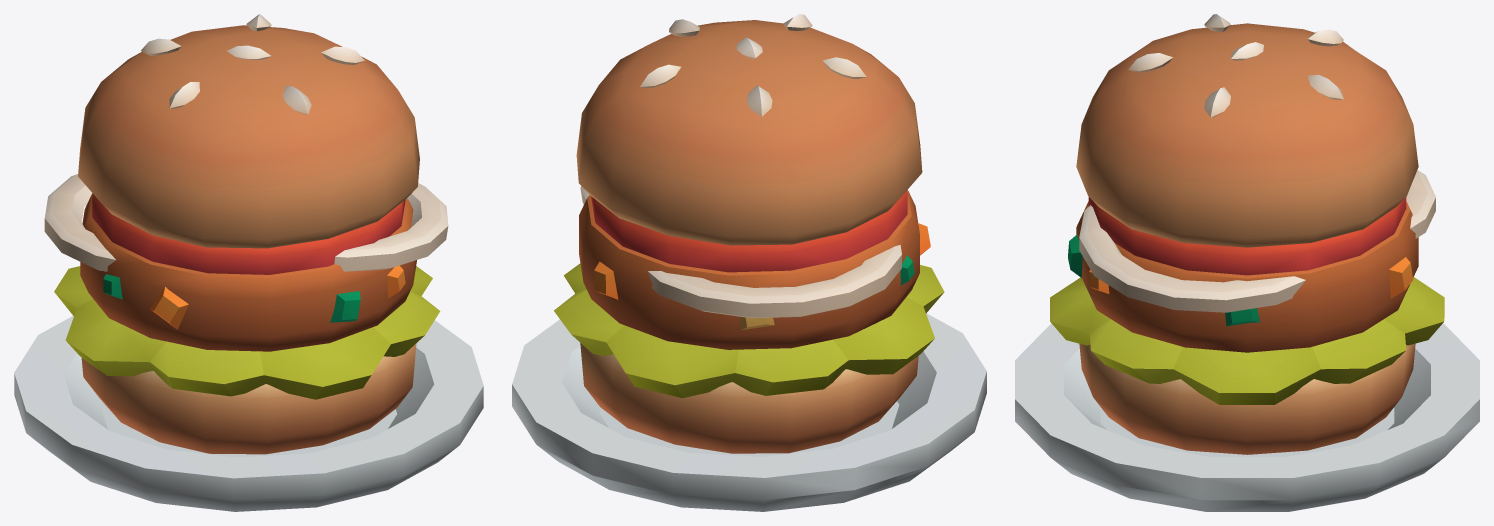
Rendered from kaykit-restaurant-bits-food-vegetableburger.glb.
The picture shows the model from 3 angles, left to right: view 1: azimuth 30°, elevation 25°; view 2: azimuth 150°, elevation 25°; view 3: azimuth 270°, elevation 25°; orthographic projection.
Parts seen in each view (by area): view 1: food_vegetableburger; view 2: food_vegetableburger; view 3: food_vegetableburger.
Part boxes in pixels (x1,y1,x2,y2): food_vegetableburger: (14,14,483,511); food_vegetableburger: (512,14,986,511); food_vegetableburger: (1015,14,1479,511).
Size of the model in its own units: 0.95 by 0.8572 by 0.95.
Materials: 1 (1 with a texture image).
